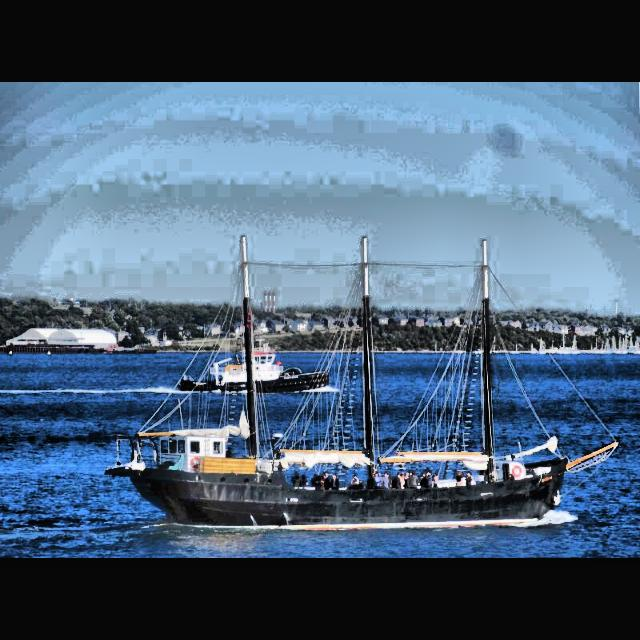sailing_vessel: (106, 234, 620, 532)
tug: (177, 334, 329, 394)
